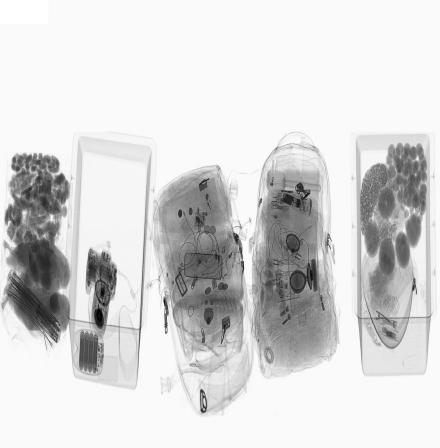Powerbank: (71, 328, 105, 378)
